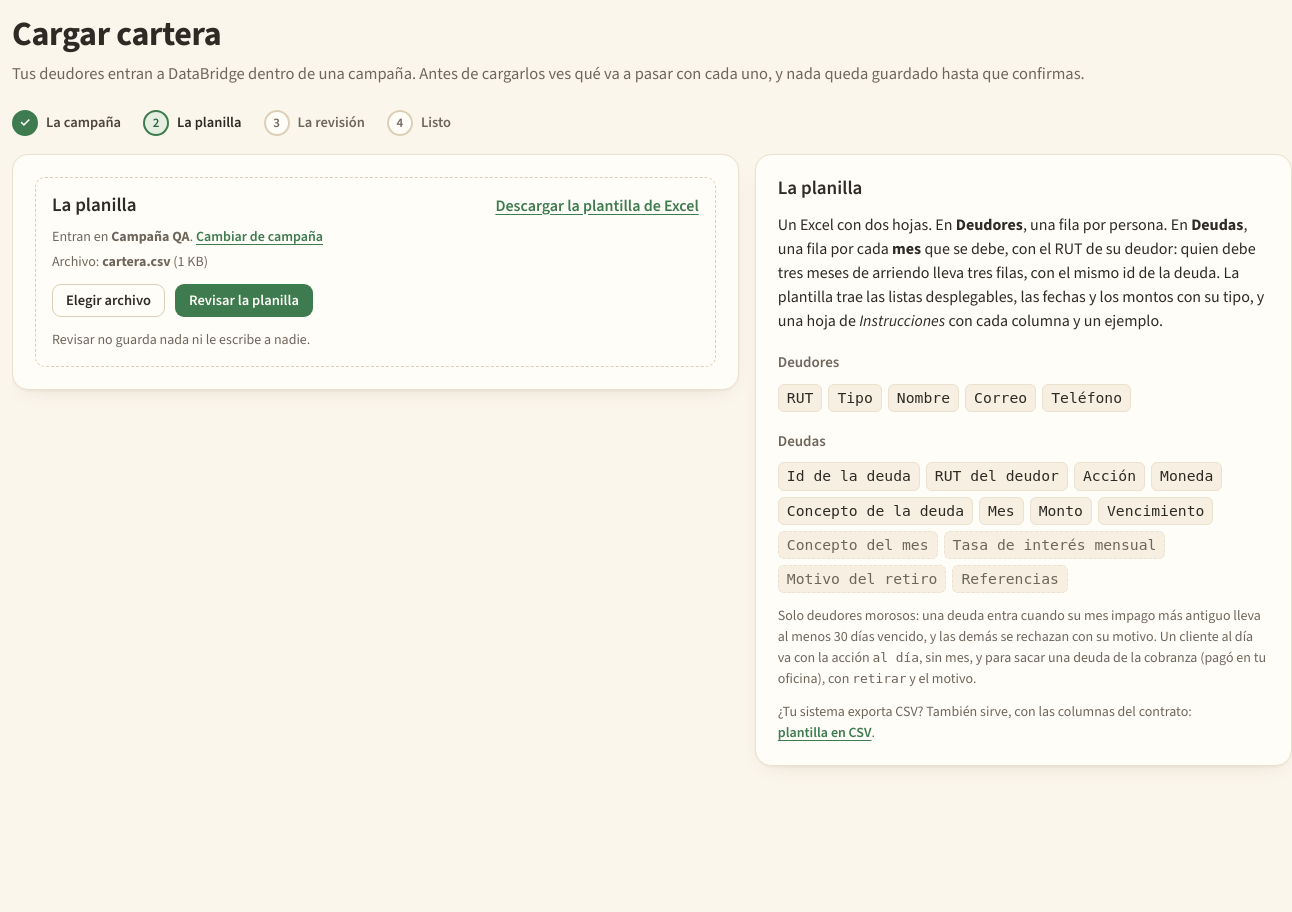
Scenario: carga por selector › conserva revisión y confirmación para cartera.csv
Earlier steps of the test are not shown.
Step 1. Click the button "Revisar la planilla" → x=244, y=300, box [175,284,313,317]
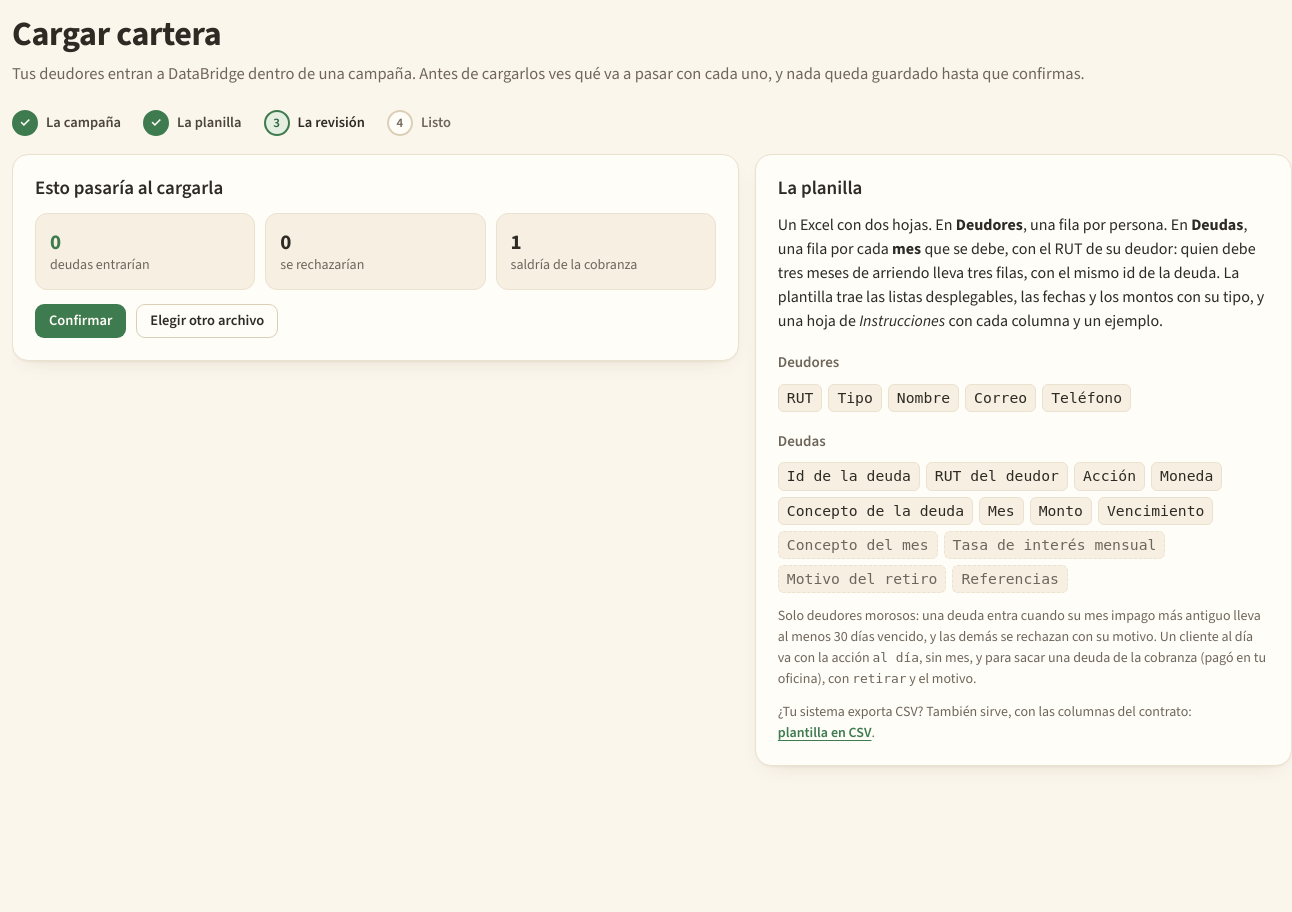
expect the heading "Esto pasaría al cargarla" is shown: met, box [35,174,223,200]
Step 2. Click the button "Confirmar" → x=81, y=321, box [35,304,126,338]
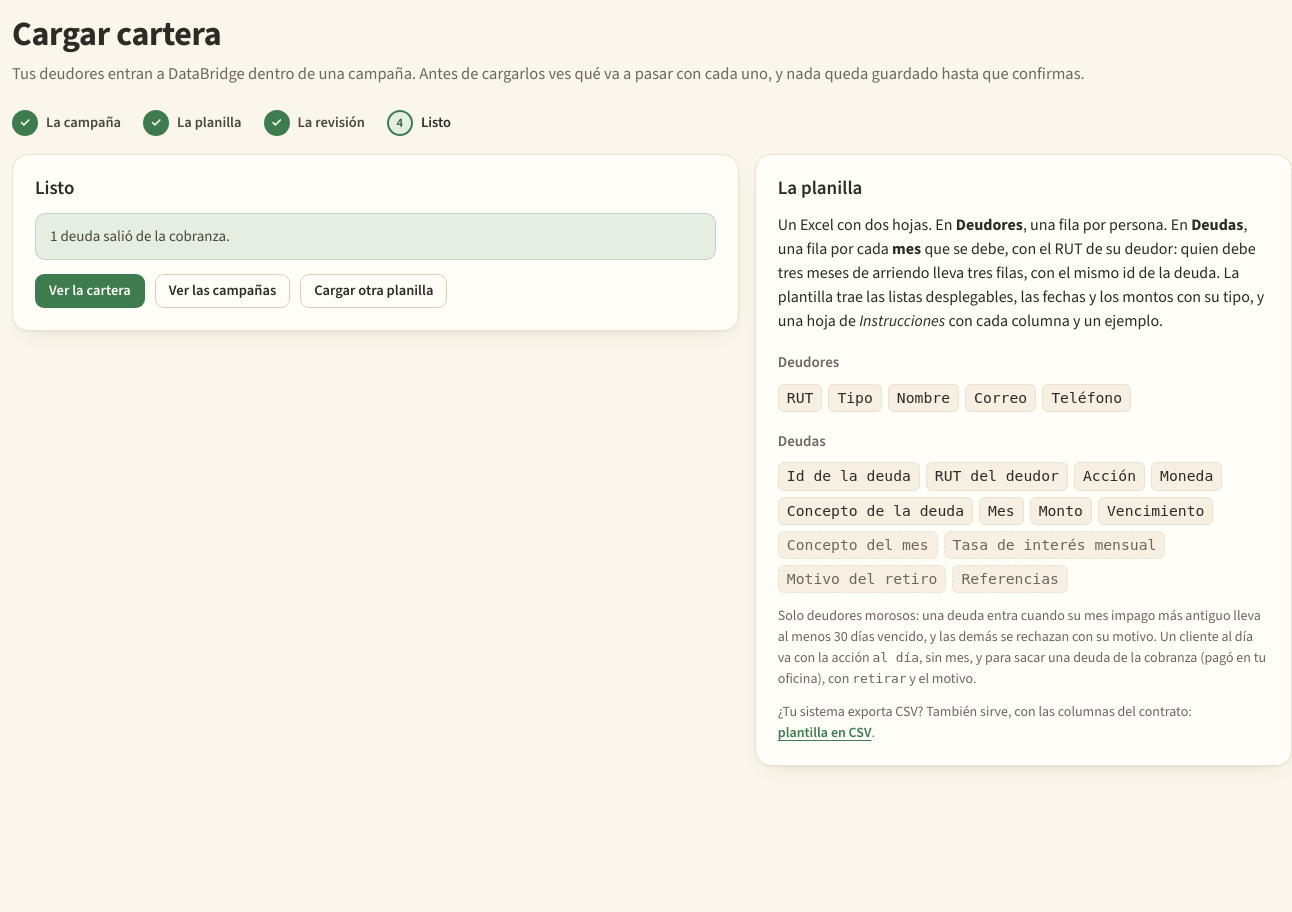
expect the heading "Listo" is shown: met, box [35,174,74,200]
